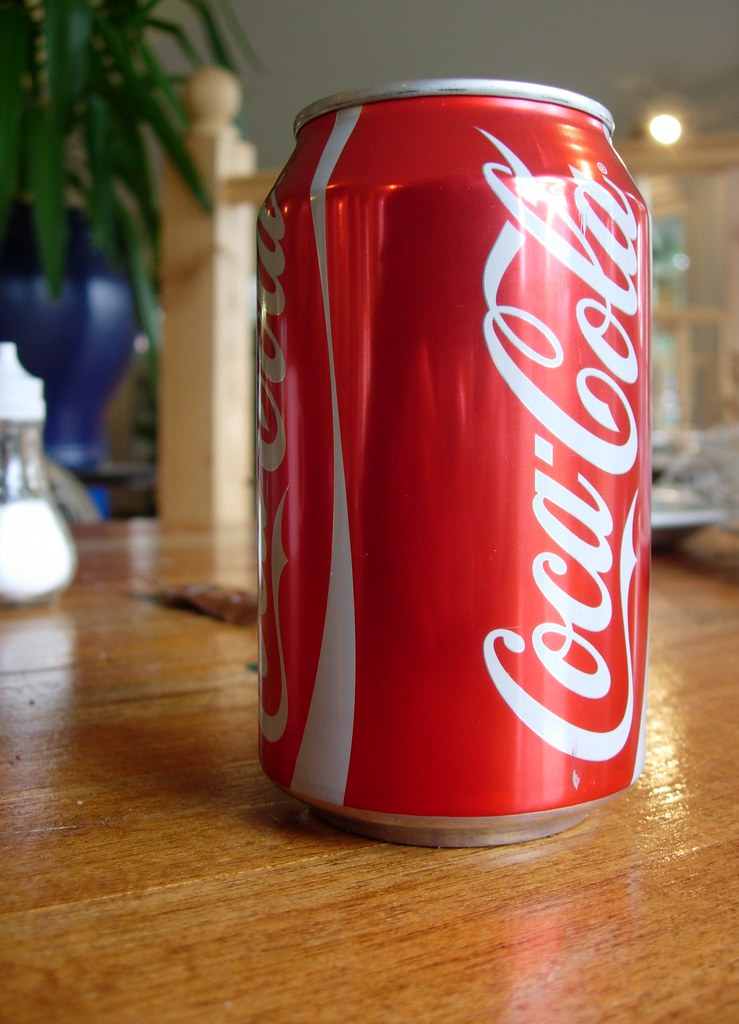can: (241, 70, 664, 864)
